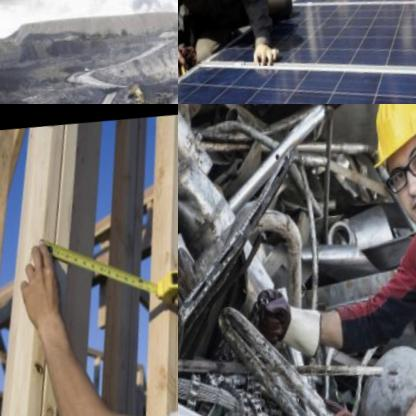helmet: (343, 104, 416, 245)
